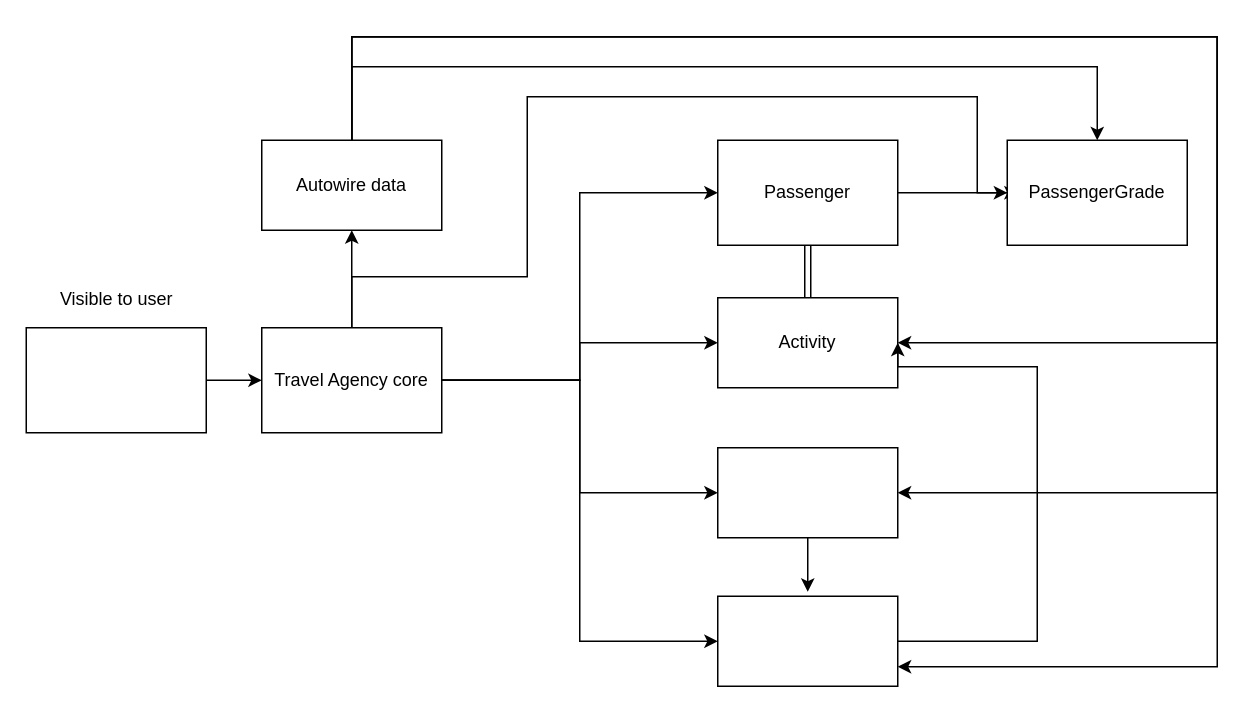
This 1256x713 diagram has some shape labels left out. The centre of each missing label's shape, as x and y in pixels:
"Destination" goes at [807,640].
"Package" goes at [807,492].
"Travel Agency website" goes at [115,379].
